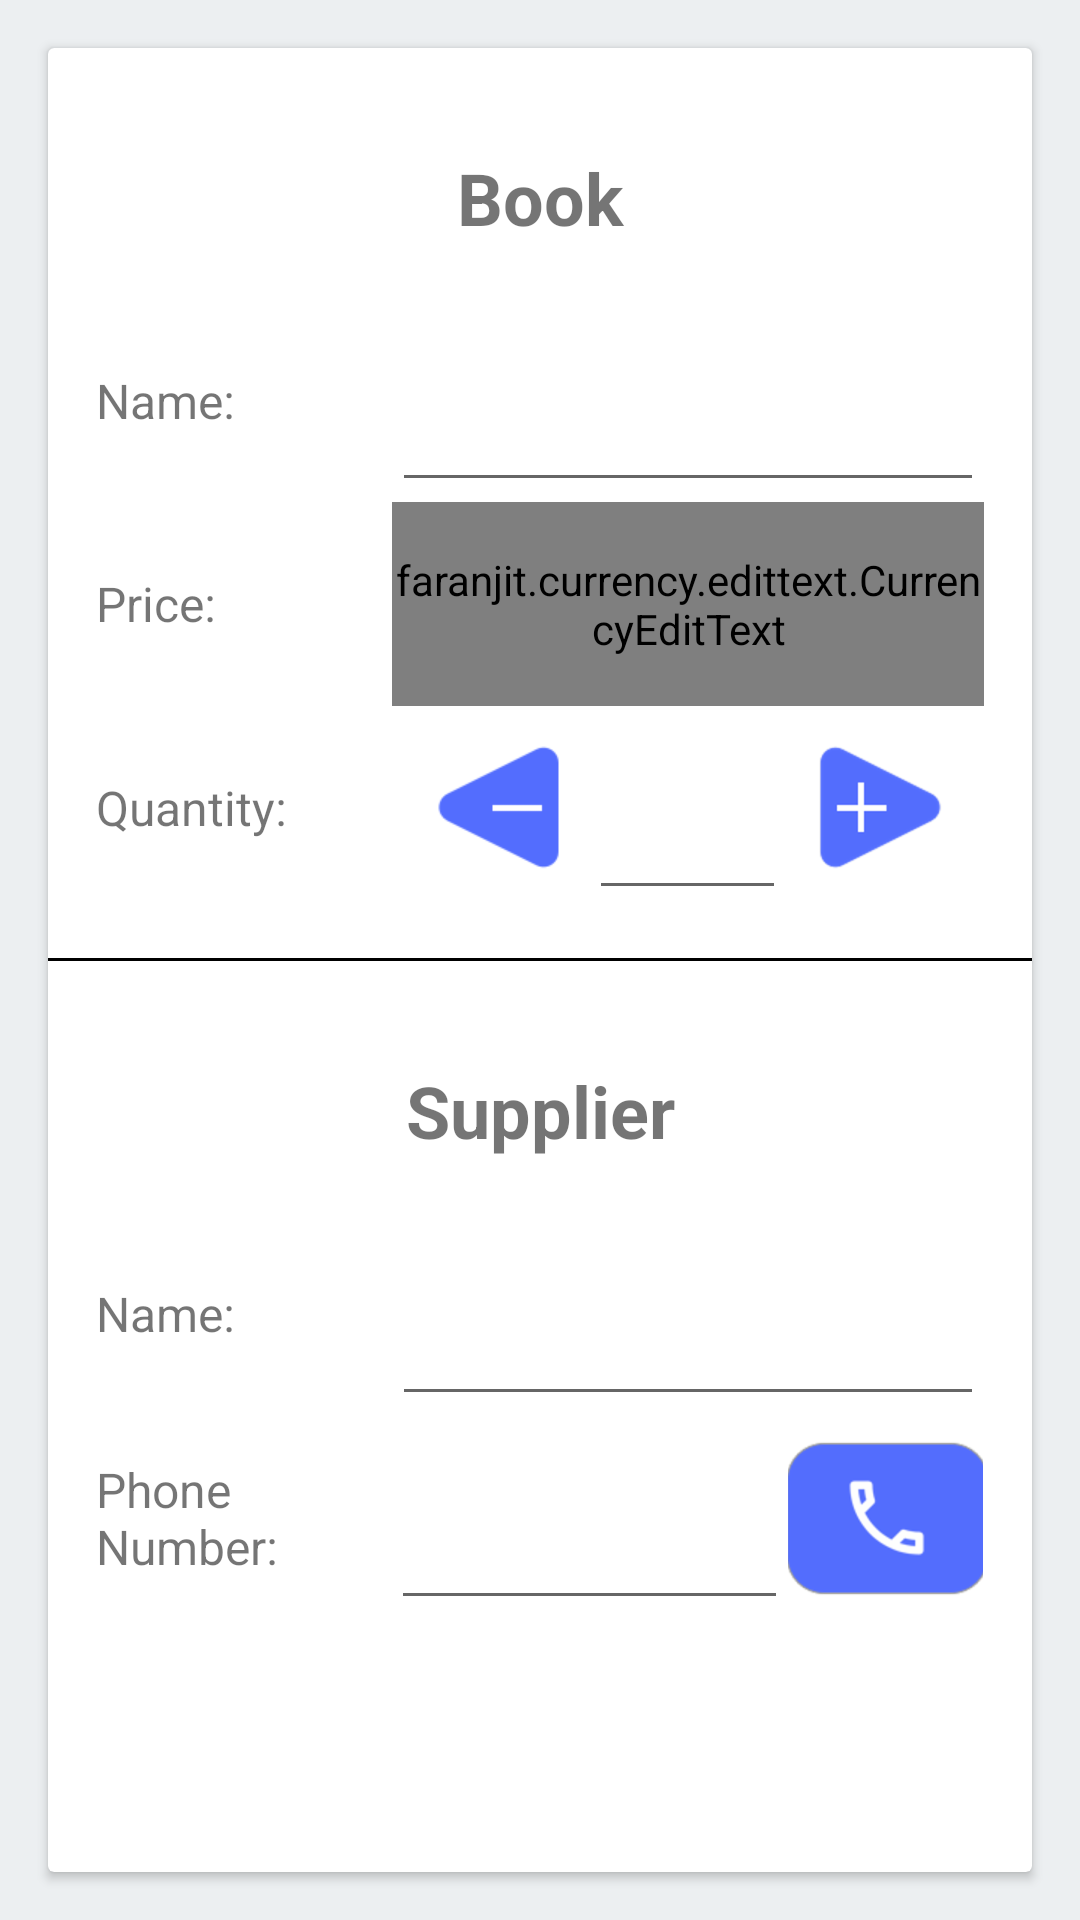

Icon click points for this 1080px x 1920px phone screenshot, format [x,y]:
increase quantity: [880,807]
phone: [885,1518]
